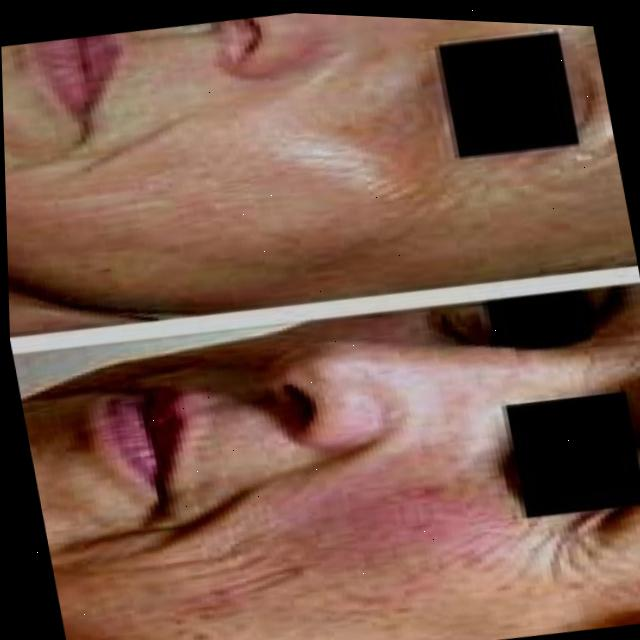Rosacea: (261, 455, 538, 635)
